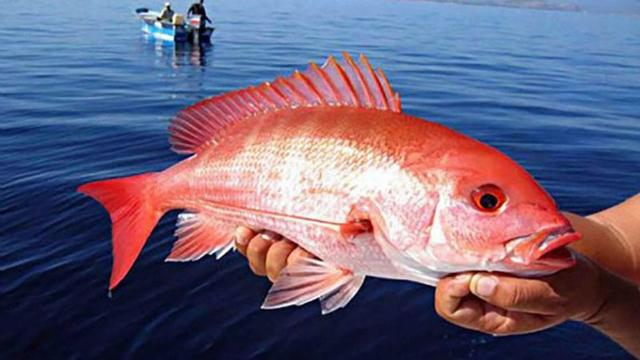Mulut: (509, 219, 605, 285)
Sirip Anal: (160, 197, 250, 271)
Sirip Dada: (170, 188, 396, 248)
Sirip Ekor: (68, 161, 170, 305)
Sirip Perut: (252, 248, 370, 330)
Sirip Punggung: (160, 45, 412, 162)
